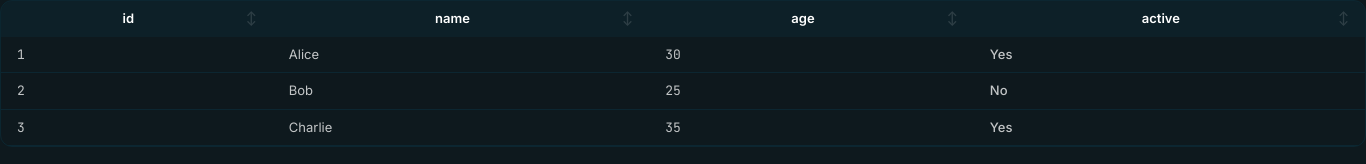
Test: ResultsTable › Sorting › sorts descending on second click
The image size is (1366, 164).
Step 1. Click the column heading "name ↕" → (461, 19), box [273,1,649,36]
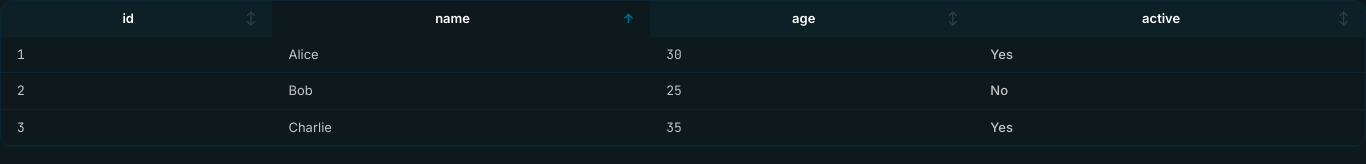
Step 2. Click the column heading "name ↑" → (461, 19), box [272,1,650,36]
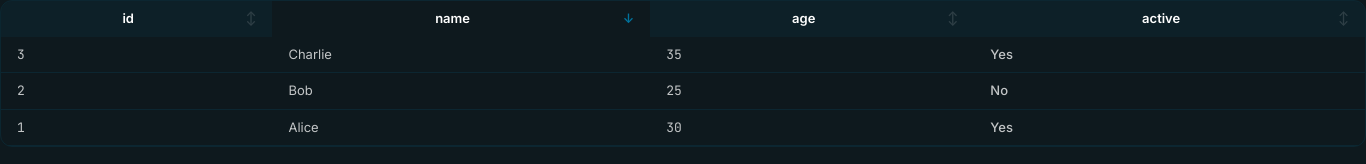
Check: the cell "Charlie" is shown, box [272,36,650,72]
